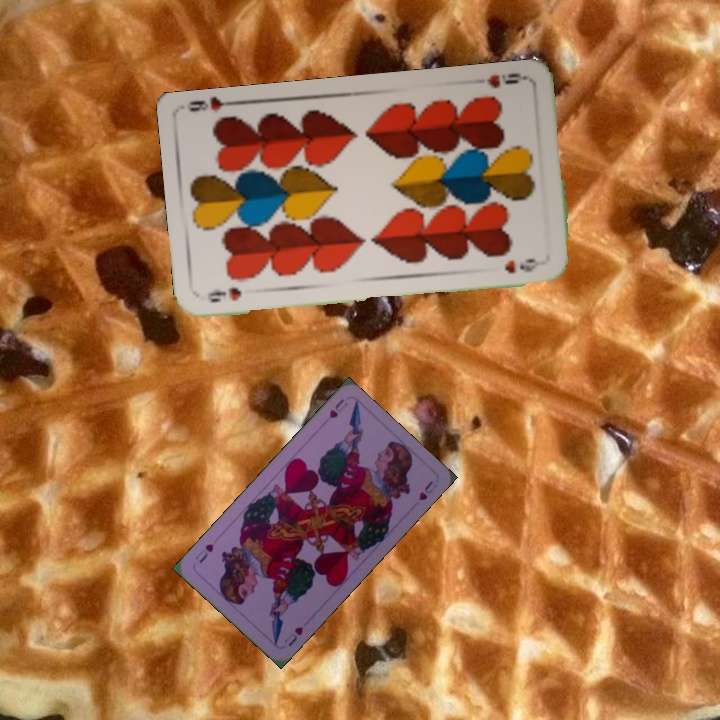H9: (483, 69, 529, 91), (203, 283, 244, 305)
HU: (280, 622, 306, 649), (325, 395, 351, 421)
